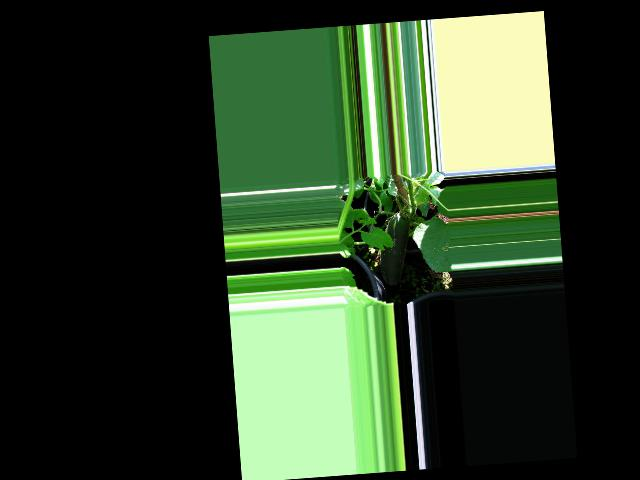cucumber: (376, 211, 414, 286)
